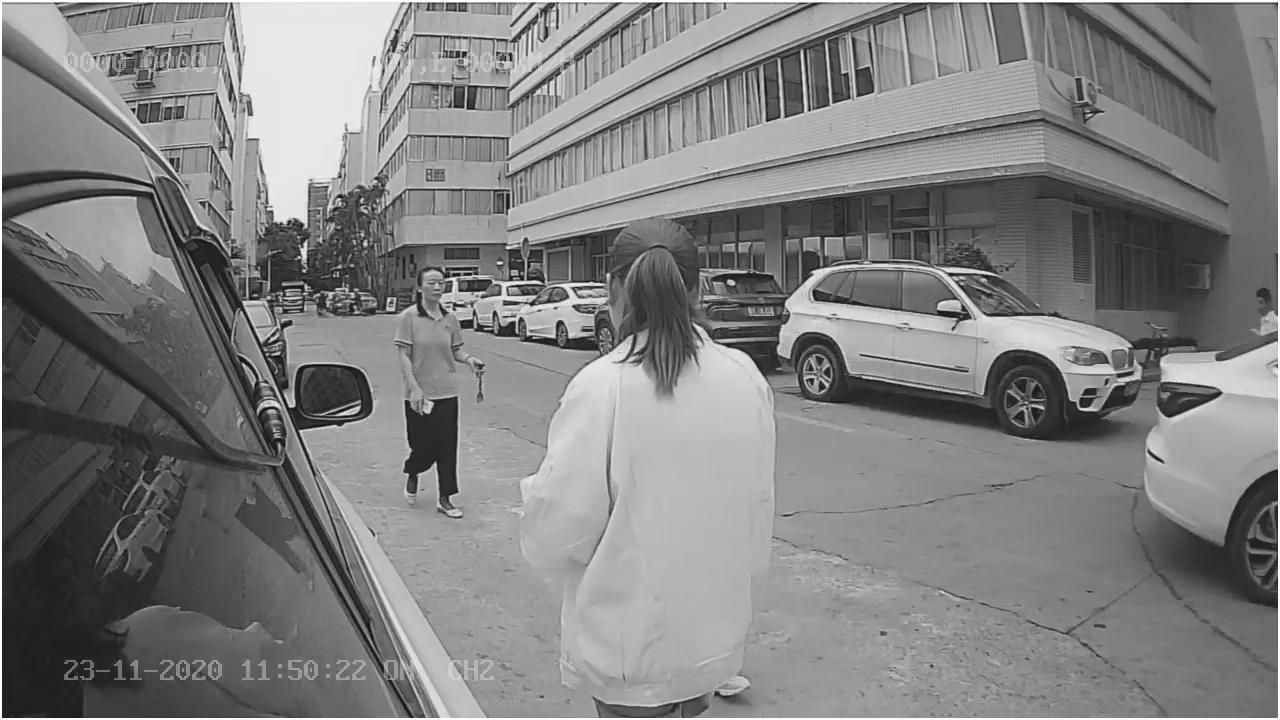person: (517, 210, 787, 543), (388, 259, 483, 519)
